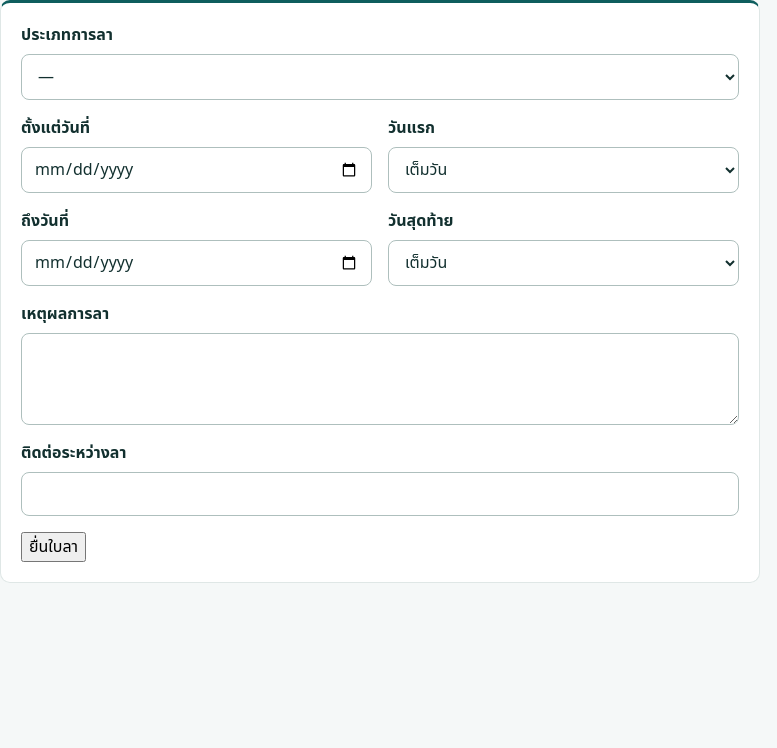
Test: LeaveForm › shows the medical certificate notice and a Thai check error
Step 1. Select "ลาป่วย" in the dropdown labelled "ประเภทการลา" → coordinates (380, 77), box [21,54,739,100]
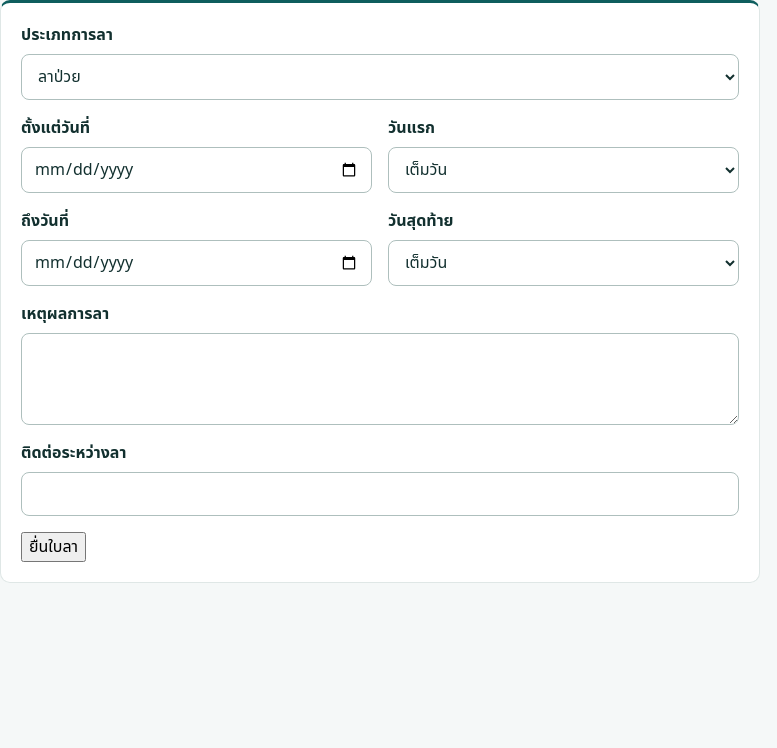
Step 2. Type "2026-11-02" into the date field labelled "ตั้งแต่วันที่" → coordinates (196, 170), box [21,147,372,193]
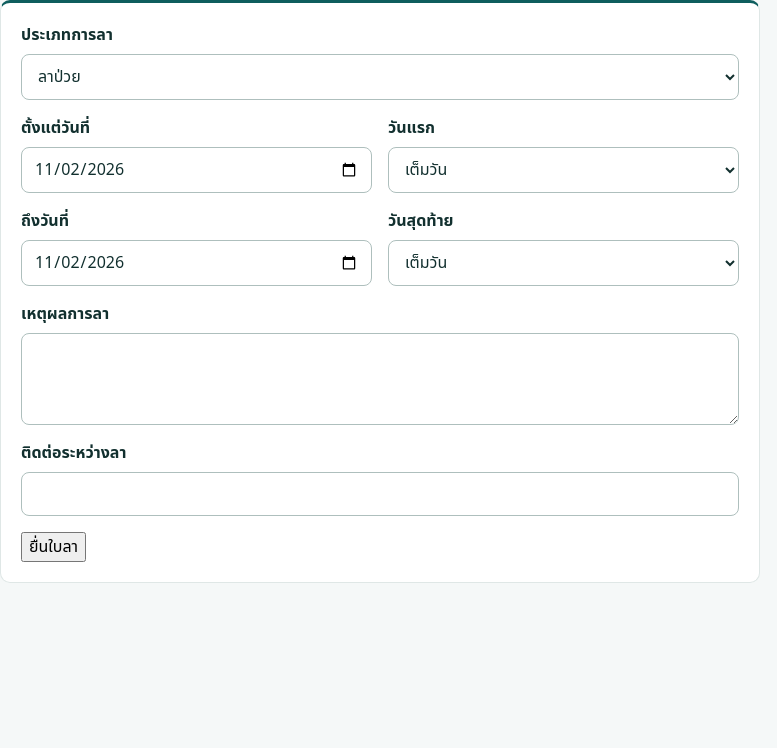
Step 3. Type "2026-12-11" into the date field labelled "ถึงวันที่" → coordinates (196, 263), box [21,240,372,286]
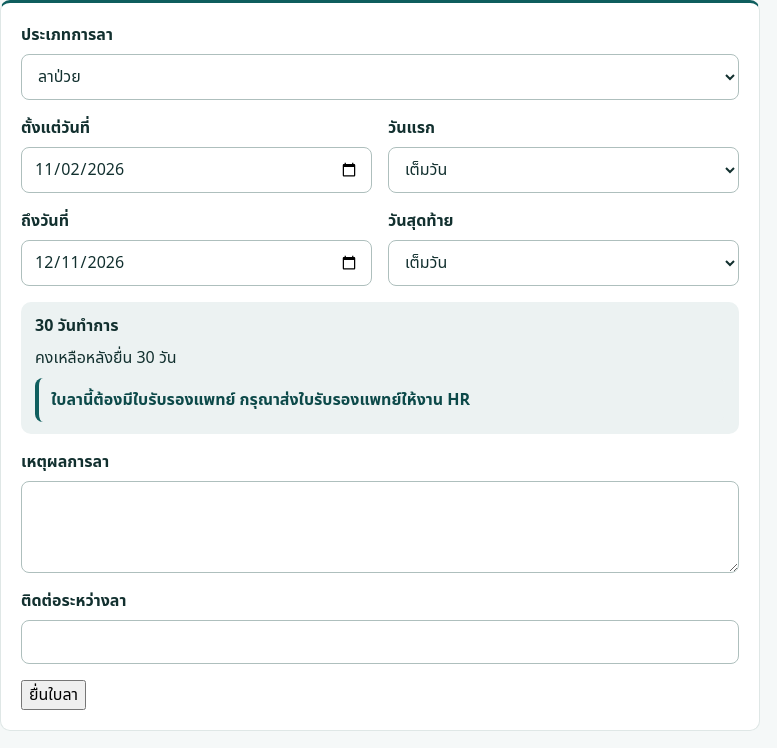
Result: the text "ใบลานี้ต้องมีใบรับรองแพทย์ กรุณาส่งใบรับรองแพทย์ให้งาน HR" is shown at [35,378,725,422]
Step 4. Type "2026-11-03" into the date field labelled "ถึงวันที่" → coordinates (196, 263), box [21,240,372,286]
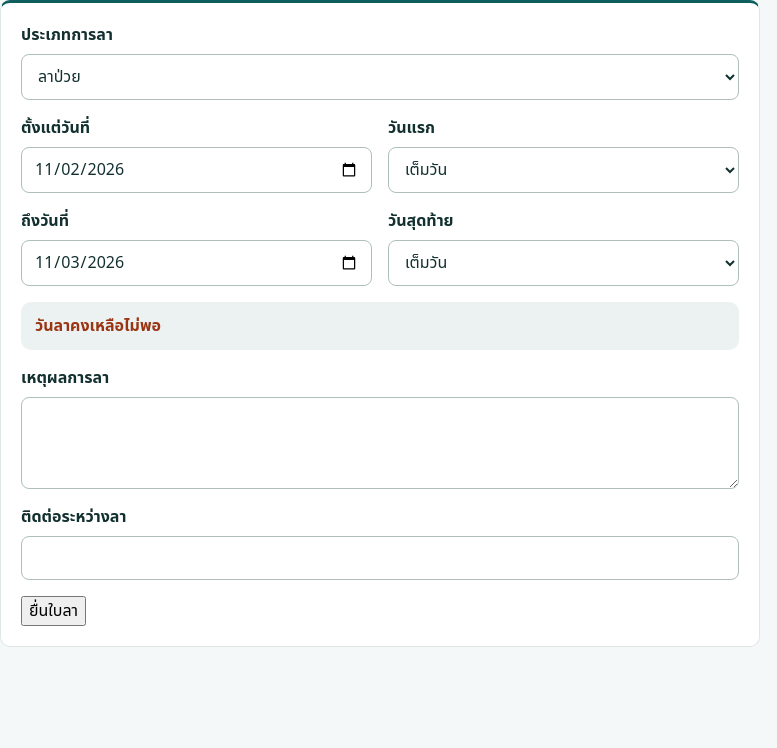
Result: the text "วันลาคงเหลือไม่พอ" is shown at [35,314,161,338]
